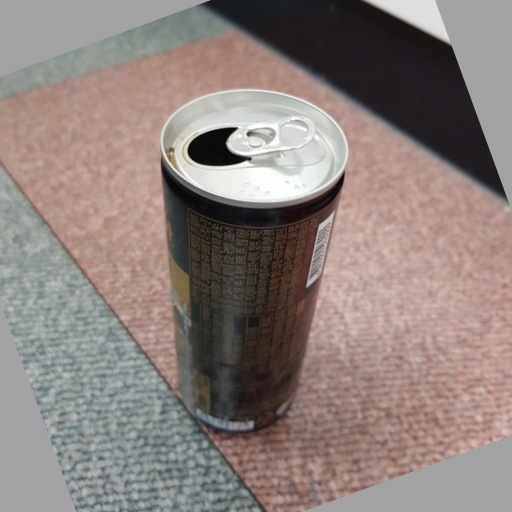Metal_0: (154, 88, 355, 435)
